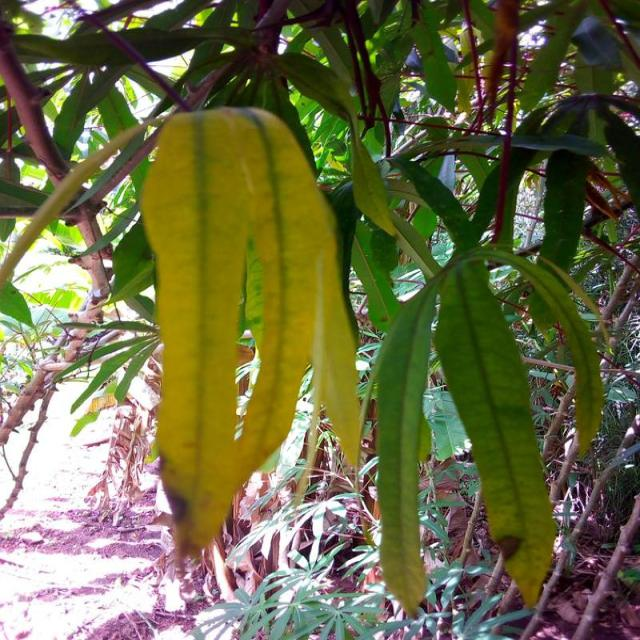cassava leaf: (138, 103, 361, 564), (433, 250, 558, 609), (374, 264, 438, 618)
